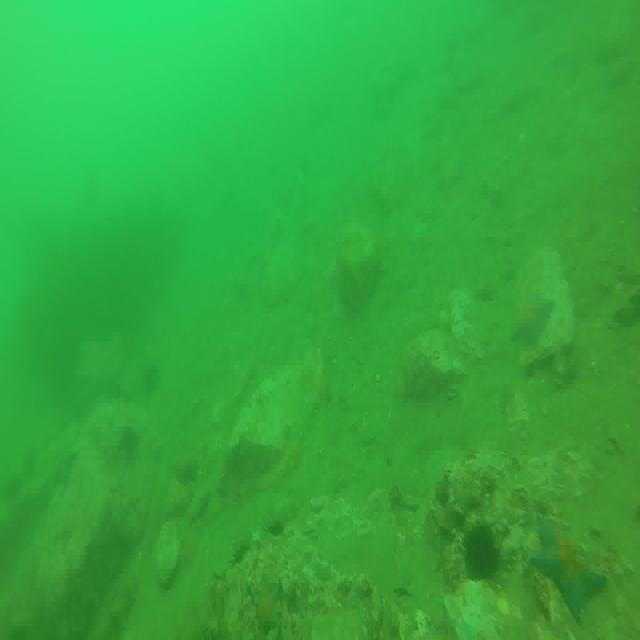echinus: (460, 522, 503, 586), (229, 540, 259, 578), (266, 514, 289, 554), (116, 421, 142, 453), (144, 361, 164, 396)
starfish: (533, 512, 606, 623), (511, 292, 556, 354)
